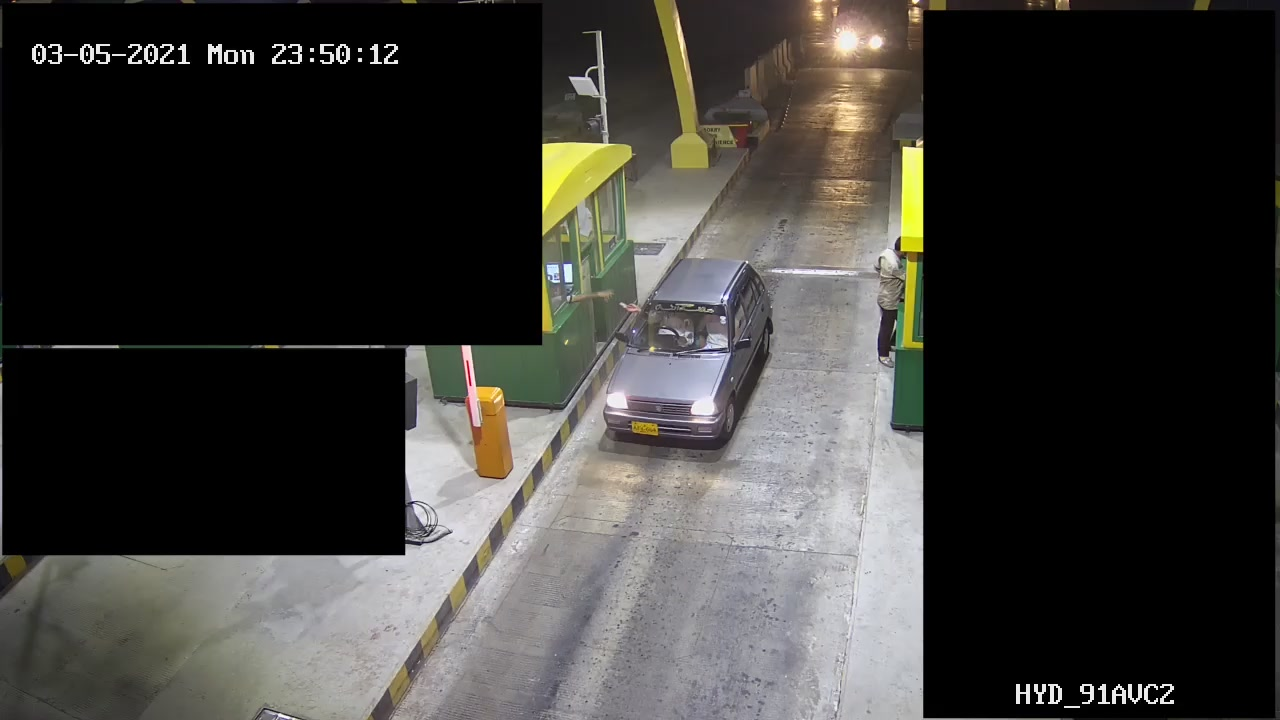F1: (593, 252, 782, 458)
